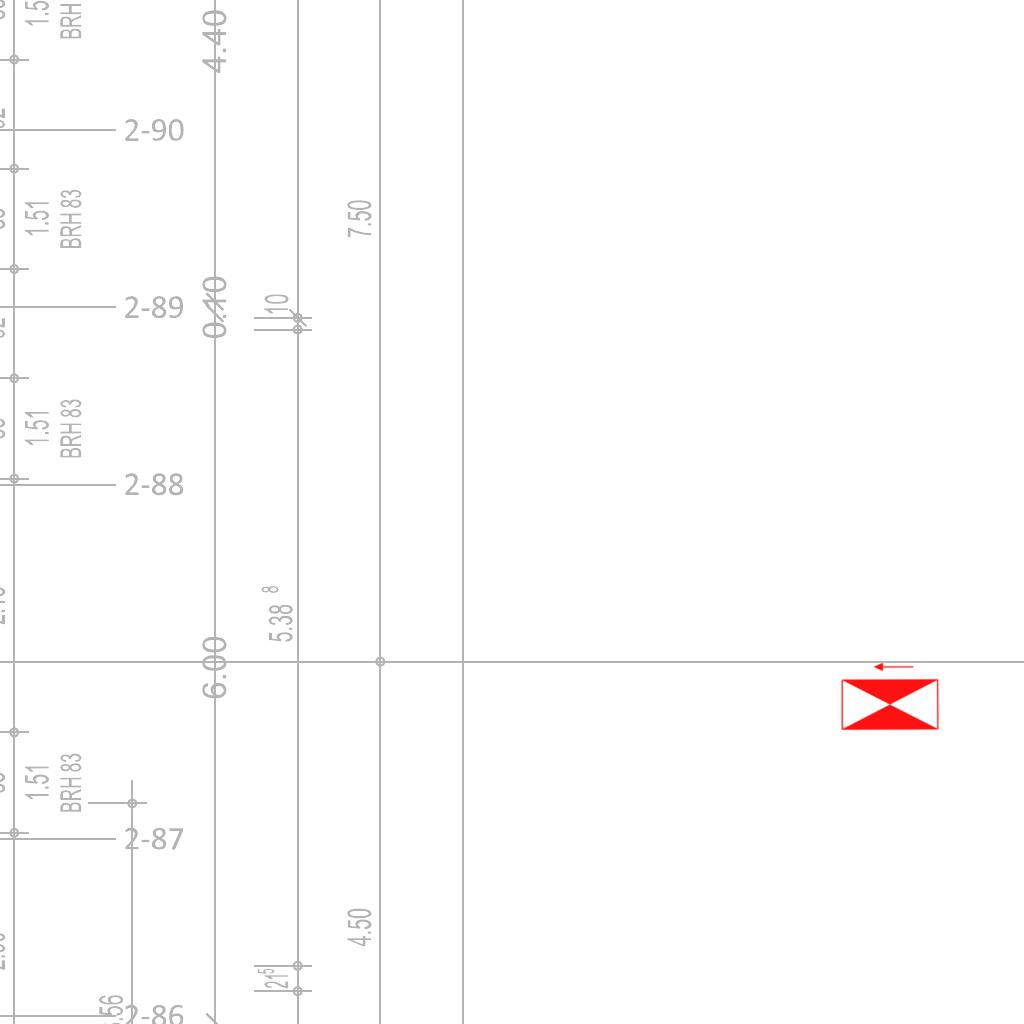Fluchtwegpiktogramm: (838, 660, 942, 733)
